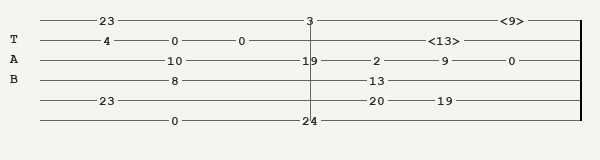0: (171, 114, 183, 126), (171, 34, 183, 46), (238, 34, 250, 46), (508, 54, 520, 66)
10: (167, 54, 187, 66)
13: (369, 74, 389, 86)
19: (302, 54, 322, 66), (437, 94, 457, 106)
2: (373, 54, 385, 66)
20: (369, 94, 389, 106)
23: (99, 94, 119, 106), (99, 14, 119, 26)
24: (302, 114, 322, 126)
3: (306, 14, 318, 26)
4: (103, 34, 115, 46)
8: (171, 74, 183, 86)
9: (441, 54, 453, 66)
harmonic: (428, 34, 465, 46), (500, 14, 529, 26)
